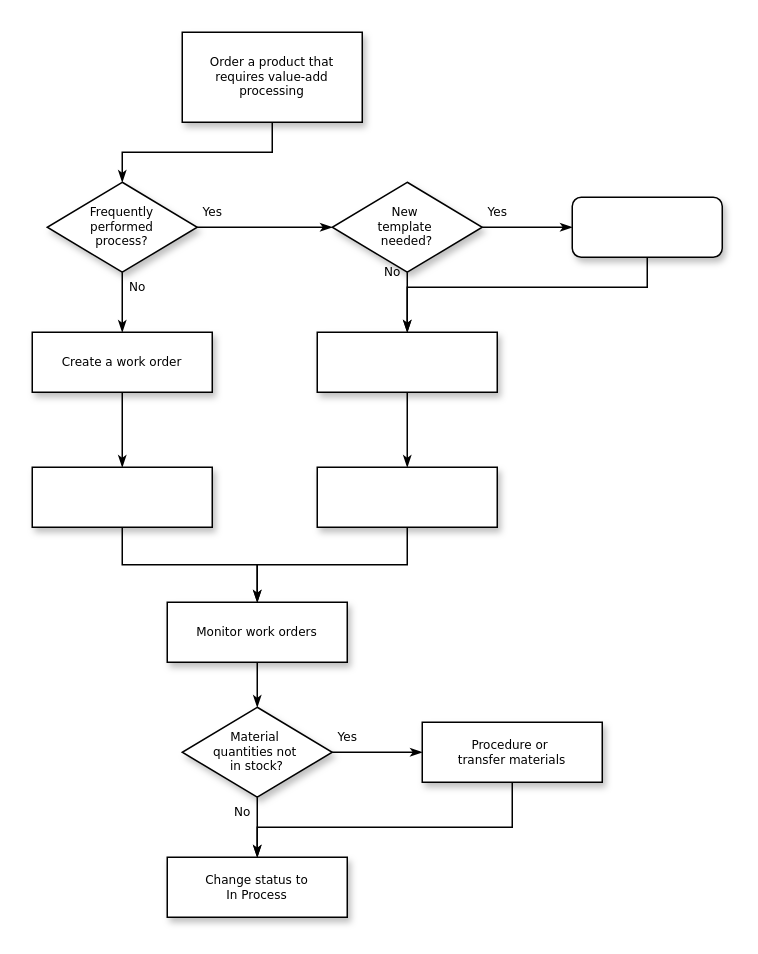
Some shapes in this 758 by 954 pixel diagram are drawn without their labels. Here are the shapes that lost their labels. From the top down, the centre of each, then its label:
pixel 648 229: Create work order template
pixel 408 364: Copy template to work order
pixel 123 499: Add materials to work order processes
pixel 408 499: Adjust material quantities if needed
